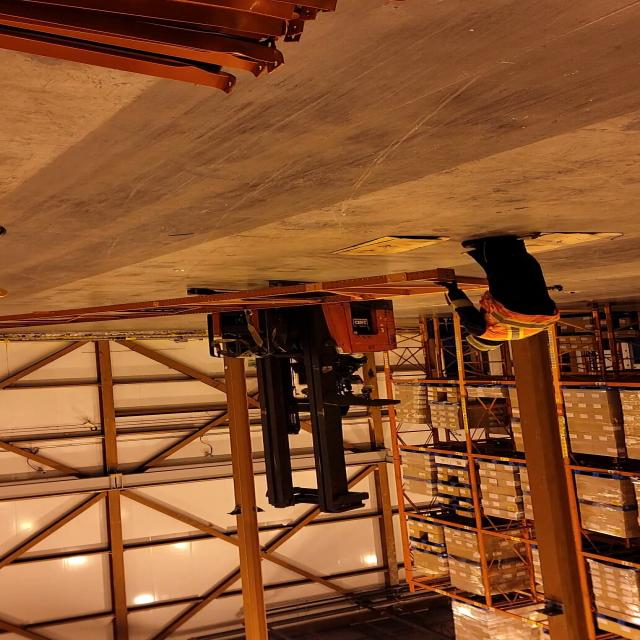forklift: (179, 278, 399, 506)
human: (429, 230, 569, 358), (284, 340, 380, 400)
objectofinterest: (0, 265, 517, 333), (459, 228, 629, 259), (325, 233, 455, 259)
